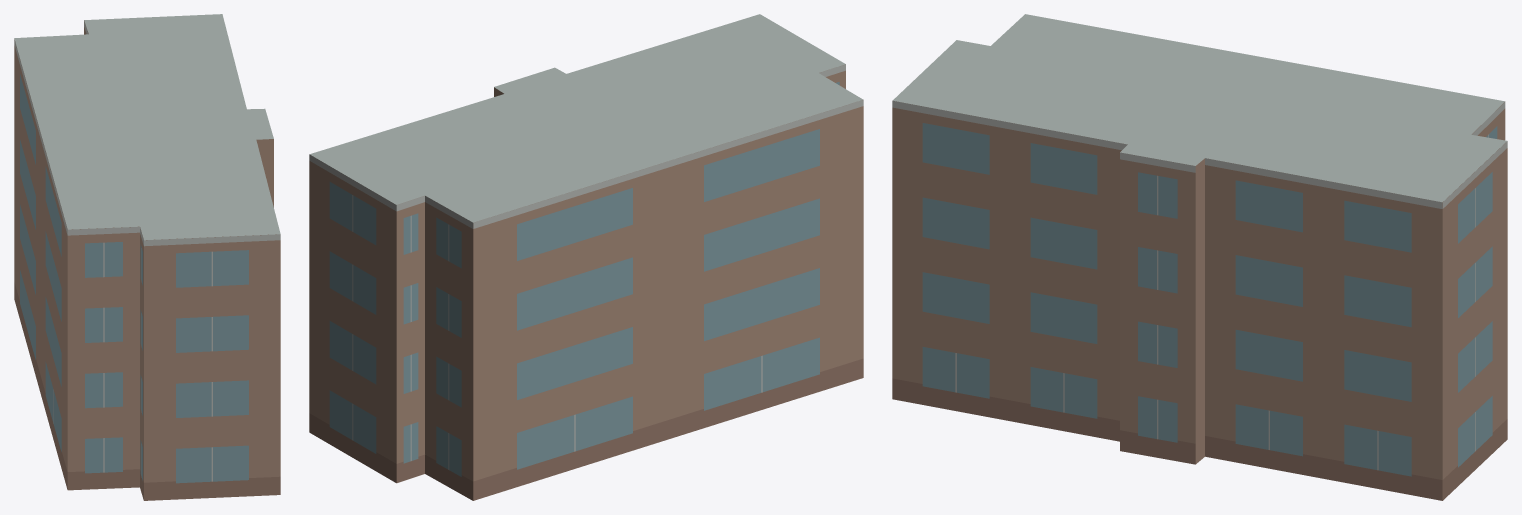
File: survey-upis-32944349.glb
3 renders of one model, left to right at view 1: azimuth 30°, elevation 25°; view 2: azimuth 150°, elevation 25°; view 3: azimuth 270°, elevation 25°, orthographic. The views are drawn at different scales.
Visible parts, largest first — view 1: survey-upis-32944349.tmp; view 2: survey-upis-32944349.tmp; view 3: survey-upis-32944349.tmp.
Boxes of the visible parts, x1,y1,x2,y2 form: survey-upis-32944349.tmp: [14, 14, 280, 500]; survey-upis-32944349.tmp: [309, 14, 863, 500]; survey-upis-32944349.tmp: [892, 14, 1507, 500].
Bounding box in the file's own units: 14.35 × 10.6 × 19.8.
